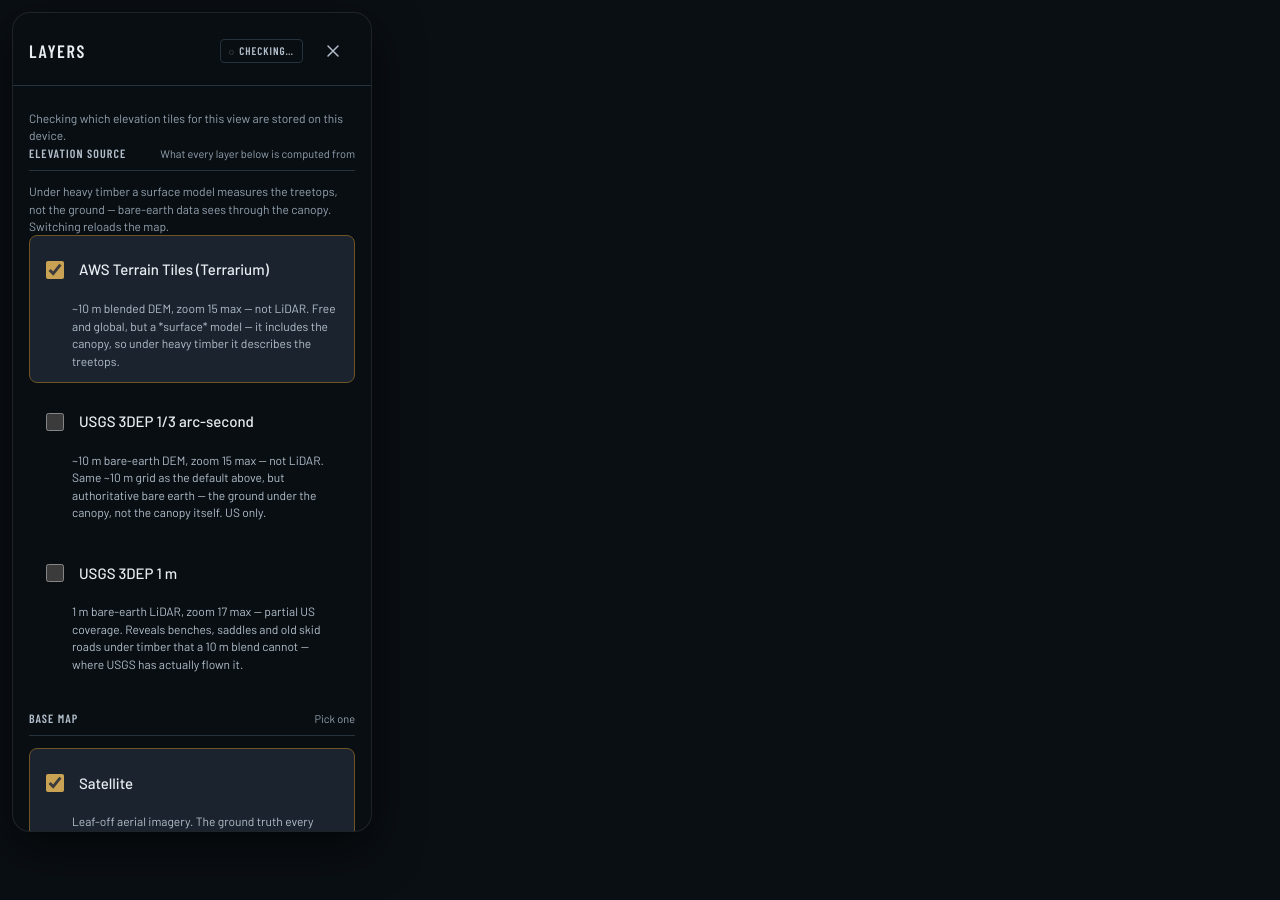
LayersSheet — elevation source picker › Cancel dismisses the confirmation and changes nothing
Click the checkbox with id "dem-source-usgs3dep-13" at x=55, y=422, box x1=46 y1=413 x2=64 y2=431
(page scrolled)
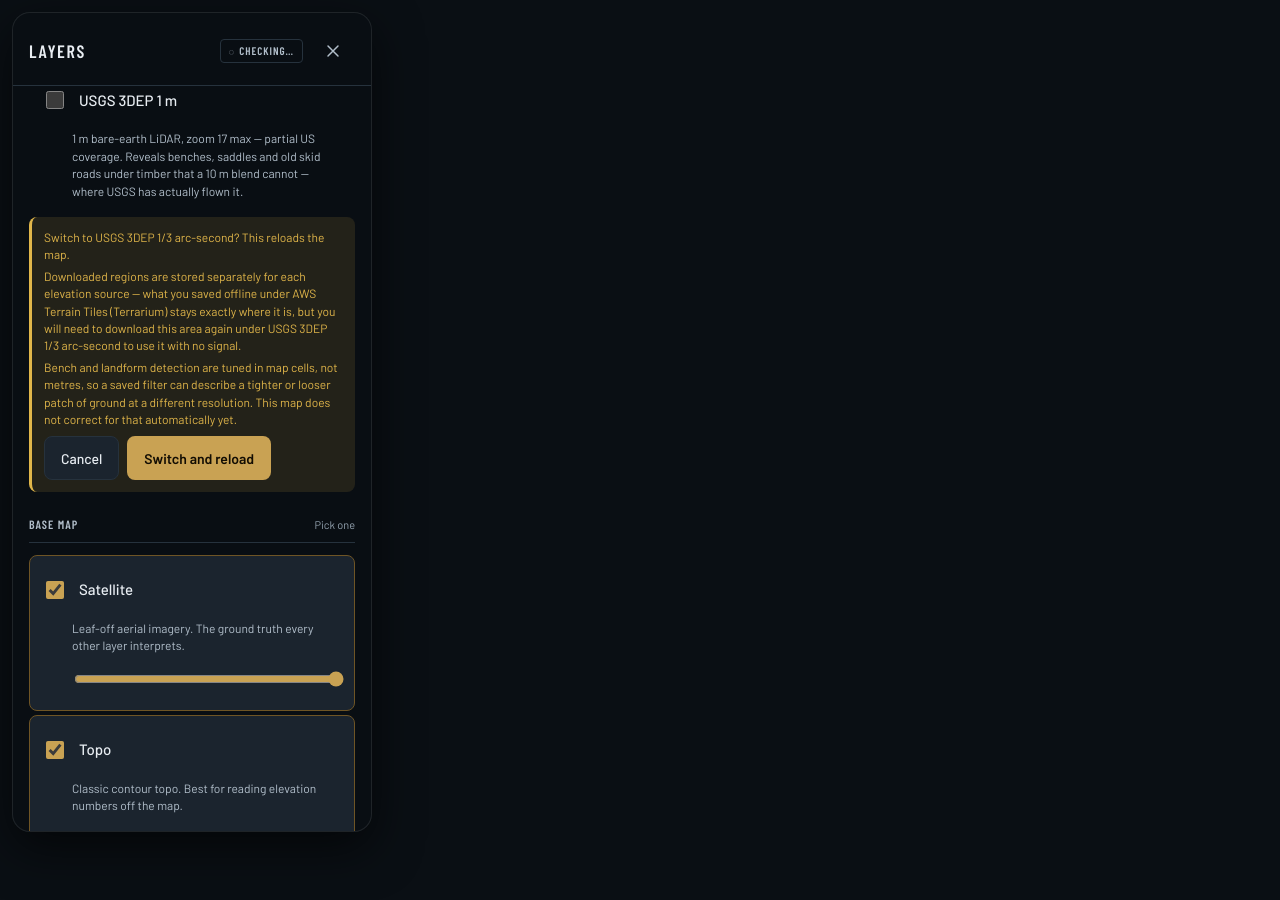
Result: the text "This reloads the map" is shown at x1=44 y1=230 x2=324 y2=261
Result: the button "Cancel" is shown
Click the button "Cancel" at x=82, y=458, box x1=44 y1=436 x2=119 y2=480
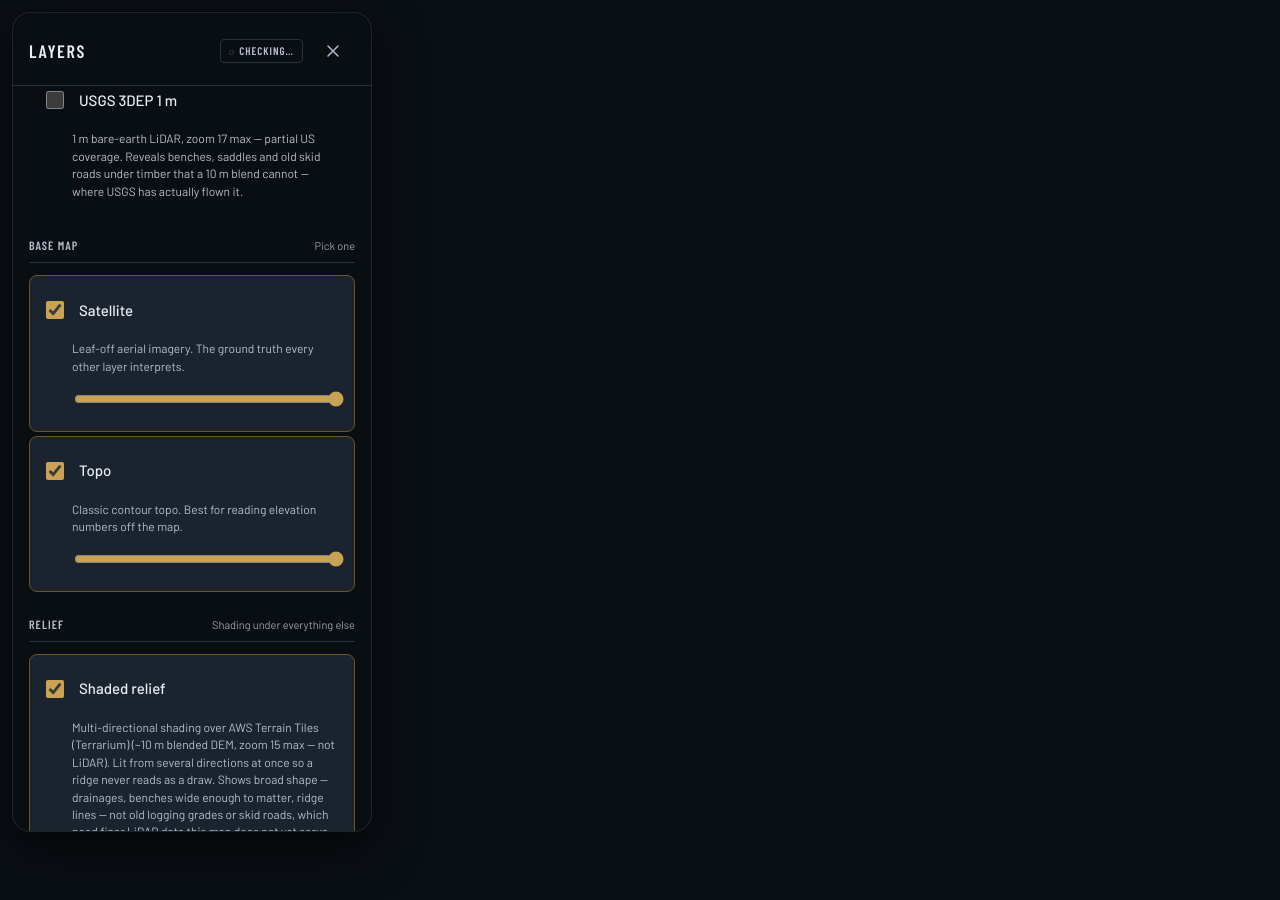
Result: the text "This reloads the map" is gone
